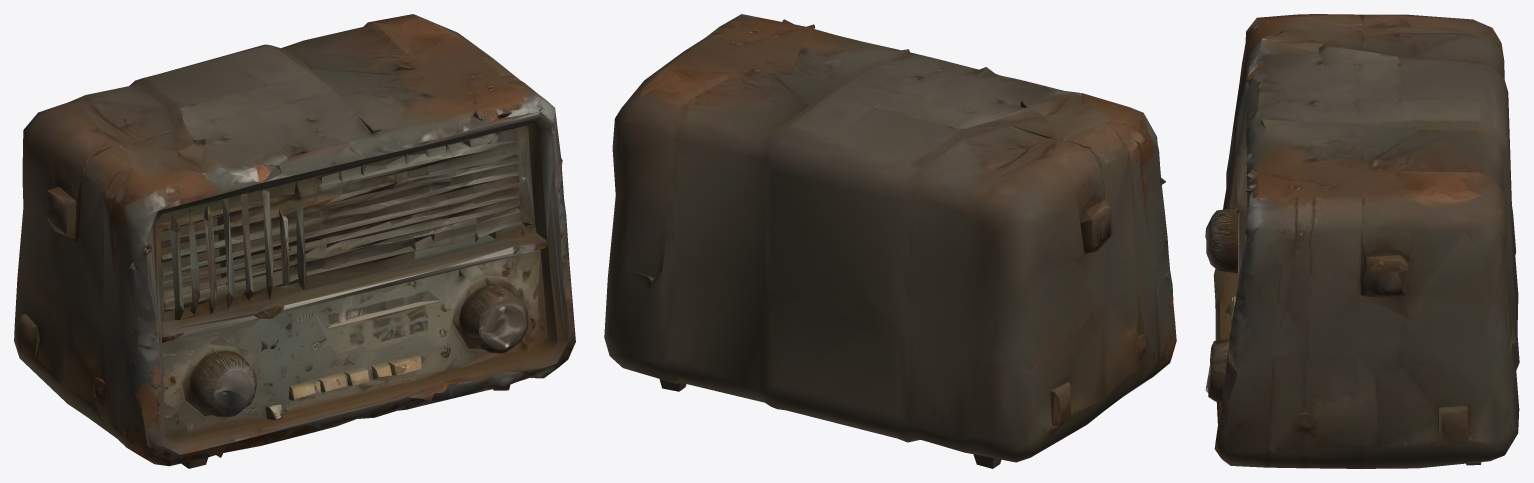
The model's file is radio_idle.glb.
The picture shows the model from 3 angles, left to right: view 1: azimuth 30°, elevation 25°; view 2: azimuth 150°, elevation 25°; view 3: azimuth 270°, elevation 25°; orthographic projection. The views are drawn at different scales.
Parts seen in each view (by area): view 1: tripo_node_65a1ca66-2c2d-4f11-acc5-bb1bcdcd42a3; view 2: tripo_node_65a1ca66-2c2d-4f11-acc5-bb1bcdcd42a3; view 3: tripo_node_65a1ca66-2c2d-4f11-acc5-bb1bcdcd42a3.
Part boxes in pixels (x1,y1,x2,y2): tripo_node_65a1ca66-2c2d-4f11-acc5-bb1bcdcd42a3: (14,14,575,468); tripo_node_65a1ca66-2c2d-4f11-acc5-bb1bcdcd42a3: (604,14,1176,468); tripo_node_65a1ca66-2c2d-4f11-acc5-bb1bcdcd42a3: (1205,14,1519,468).
Size of the model in its own units: 0.4916 by 0.2983 by 0.2967.
Materials: 1 (1 with a texture image).
